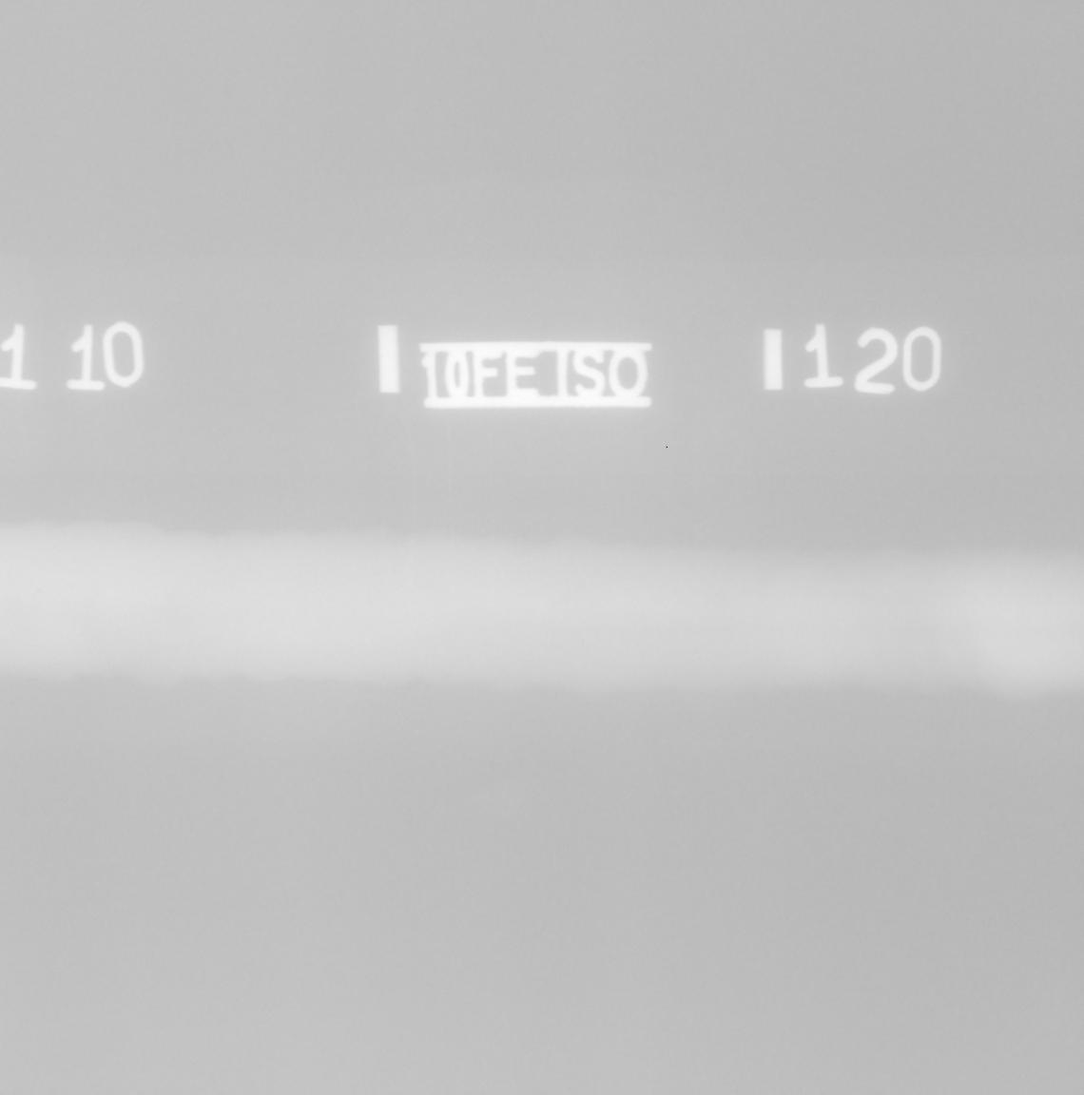Pore/Porosity: (32, 587, 45, 597)
